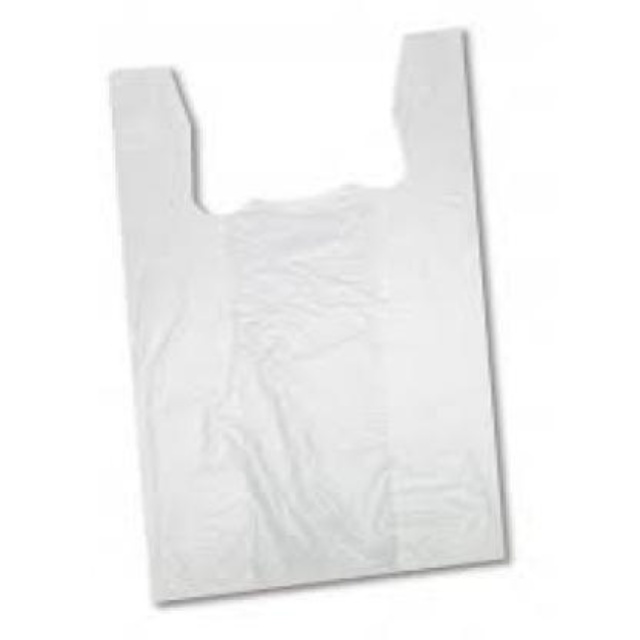trash: (112, 29, 508, 602)
